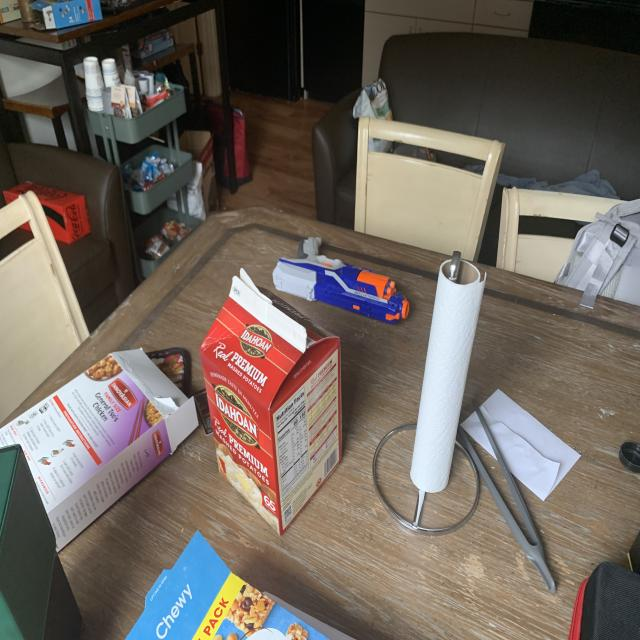nerf-maverik: (266, 225, 420, 328)
